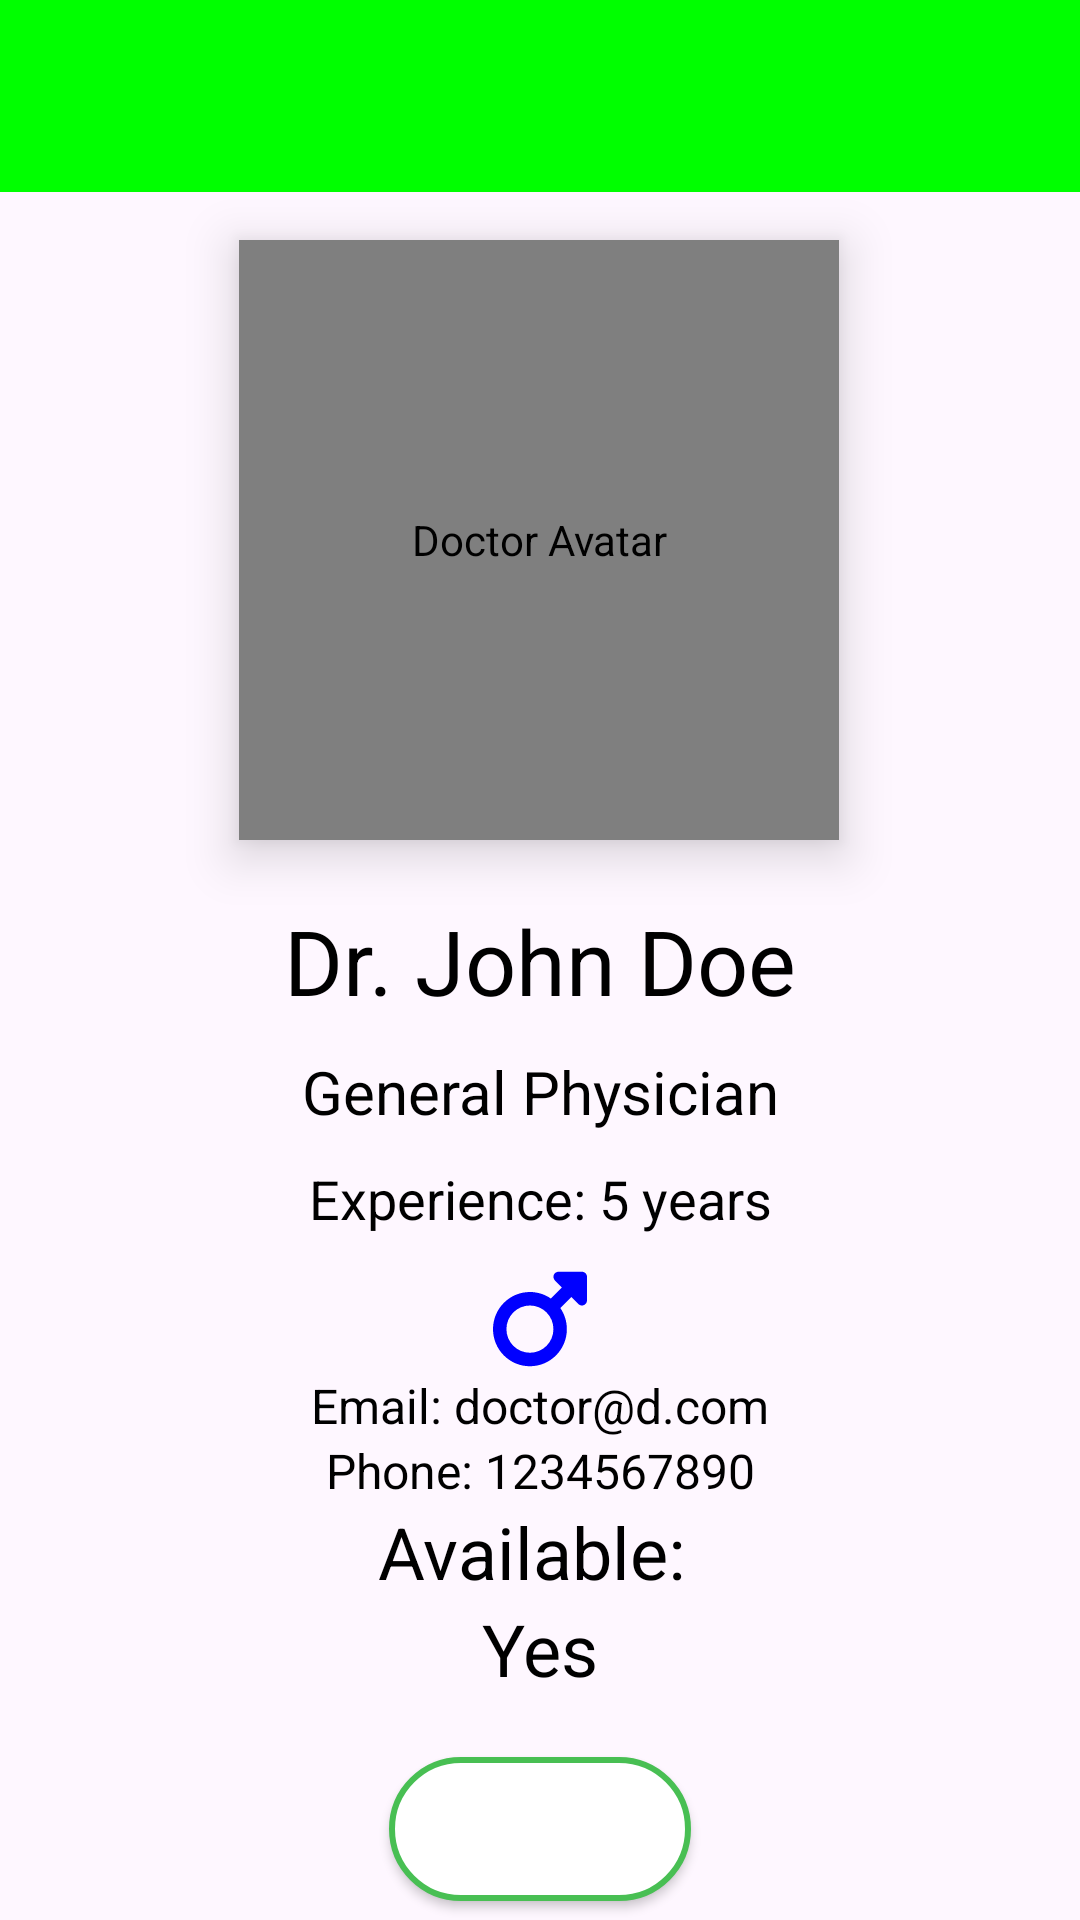

Icons on this 1080px×1920px Android screen, each with the point to tap as (x,y):
mars: (540,1319)
